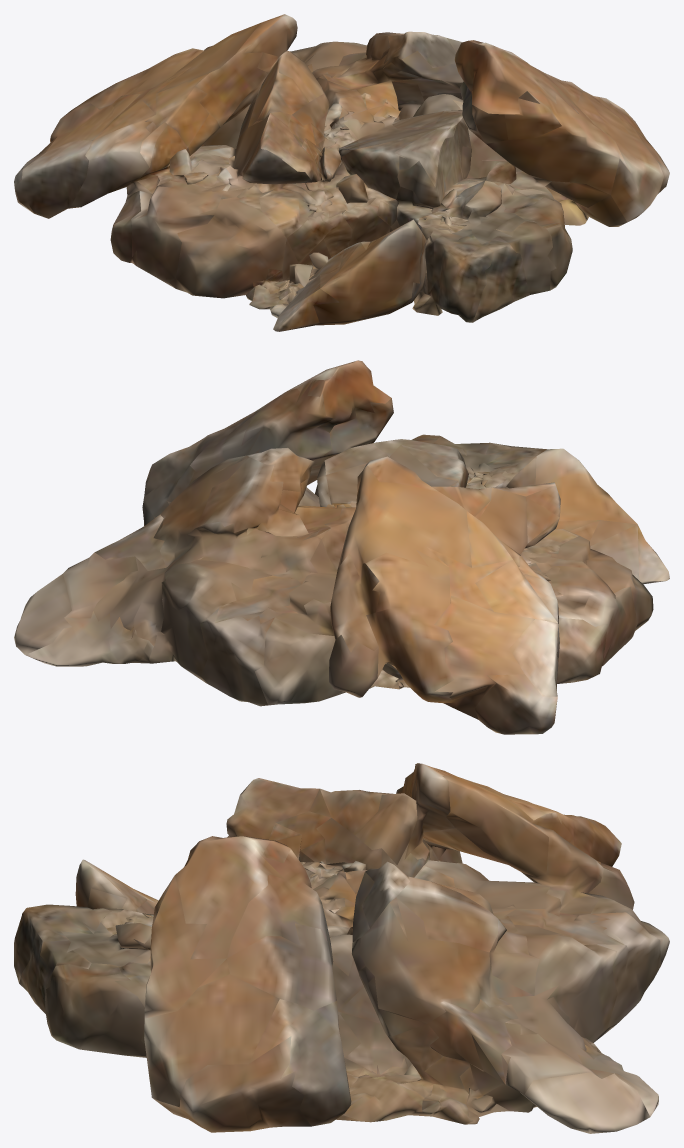
File: rock_cluster.glb
3 renders of one model, top to bottom at view 1: azimuth 30°, elevation 25°; view 2: azimuth 150°, elevation 25°; view 3: azimuth 270°, elevation 25°, orthographic. The views are drawn at different scales.
Parts seen in each view (by area): view 1: Mesh_0; view 2: Mesh_0; view 3: Mesh_0.
Boxes of the visible parts, box(x1,y1,x2,y2) form: Mesh_0: box(14, 14, 669, 331); Mesh_0: box(14, 360, 669, 734); Mesh_0: box(14, 763, 669, 1133).
Size of the model in its own units: 1.89 by 0.6498 by 1.83.
1 material, 1 textured.
